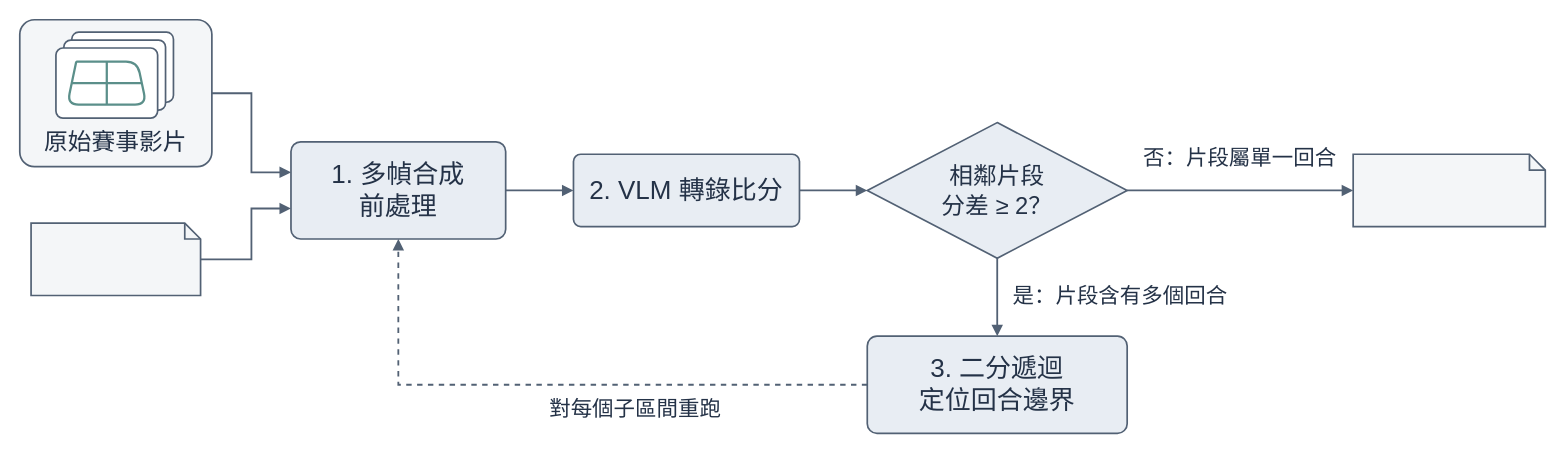
The diagram is 1566 pixels wide and 454 high, and some of its shapes have lost their labels. Each missing label, with the centre of its shape:
scores.json: (1449,190)
segments.json: (115,259)
